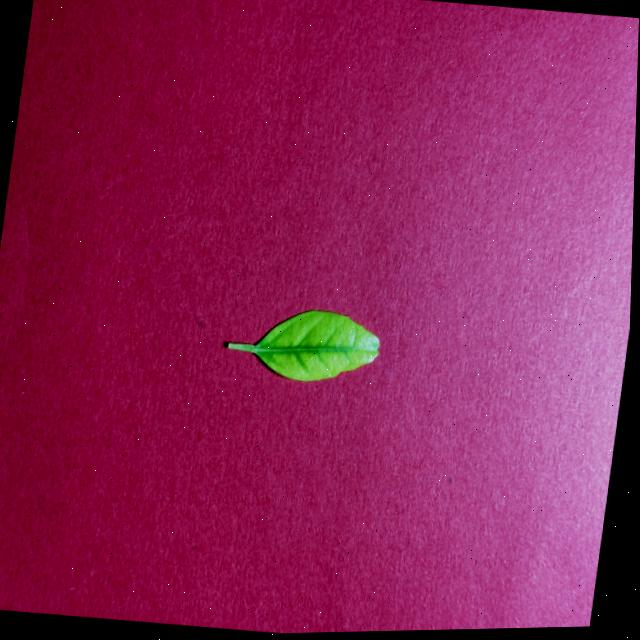greening: (225, 310, 378, 380)
